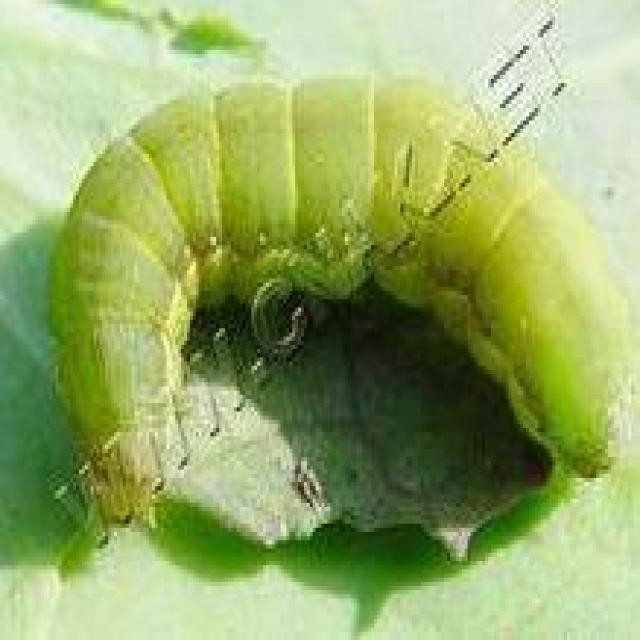BeetArmyWorm-Larva-: (51, 67, 630, 532)
